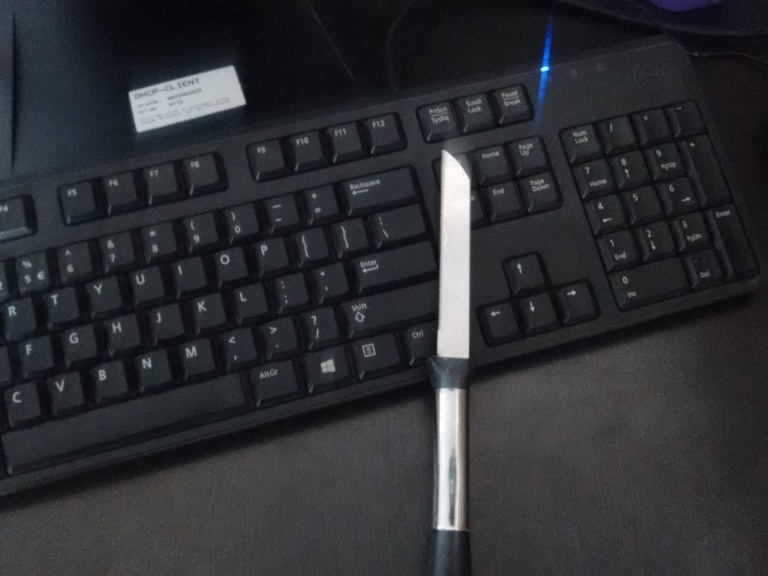knife: (425, 146, 475, 573)
